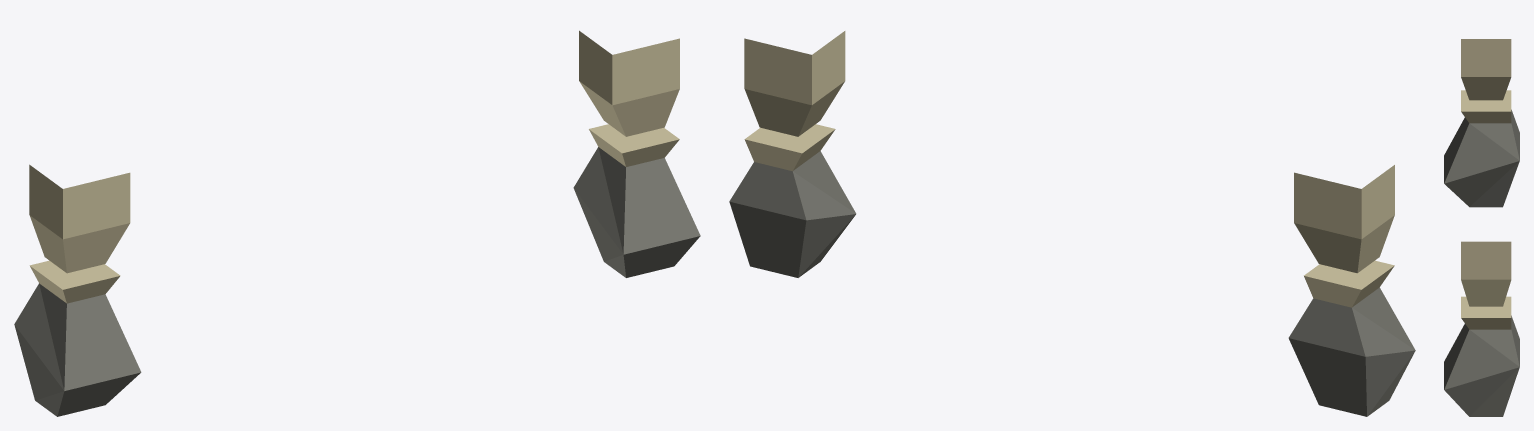
Rendered from armour-gloves.glb.
3 views of the same model, side by side, from view 1: azimuth 30°, elevation 25°; view 2: azimuth 150°, elevation 25°; view 3: azimuth 270°, elevation 25° (orthographic). The views are drawn at different scales.
Parts seen in each view (by area): view 1: runescapemodel; view 2: runescapemodel; view 3: runescapemodel.
Boxes of the visible parts, x1=… form: runescapemodel: x1=14, y1=30, x2=700, y2=416; runescapemodel: x1=729, y1=31, x2=1415, y2=416; runescapemodel: x1=1444, y1=39, x2=1519, y2=416.
Size of the model in its own units: 66 by 23 by 9.
